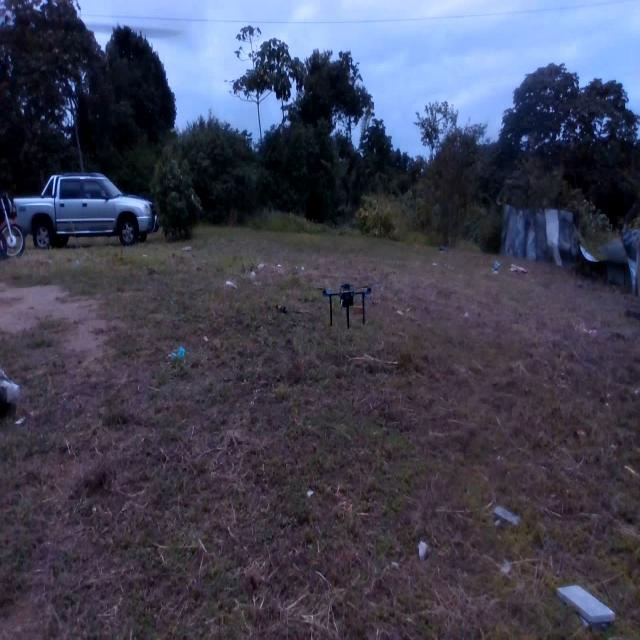-uav-: (311, 274, 384, 341)
